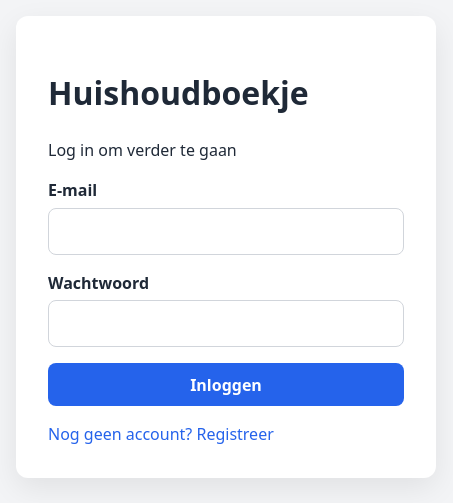
Test case: LoginPage › switches to registration mode
The image size is (453, 503).
Click the button "Nog geen account? Registreer": click(161, 434) [48,422,274,446]
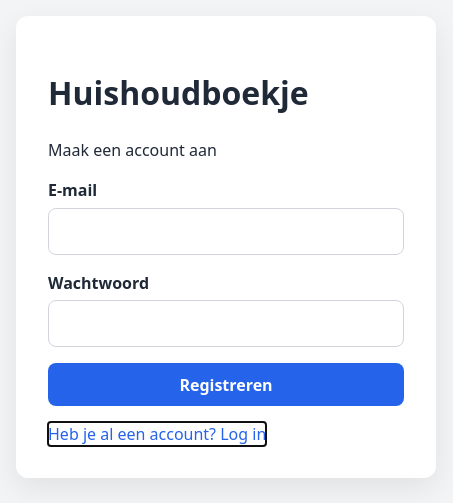
Now the text "Maak een account aan" is shown, box [48,140,217,162]
